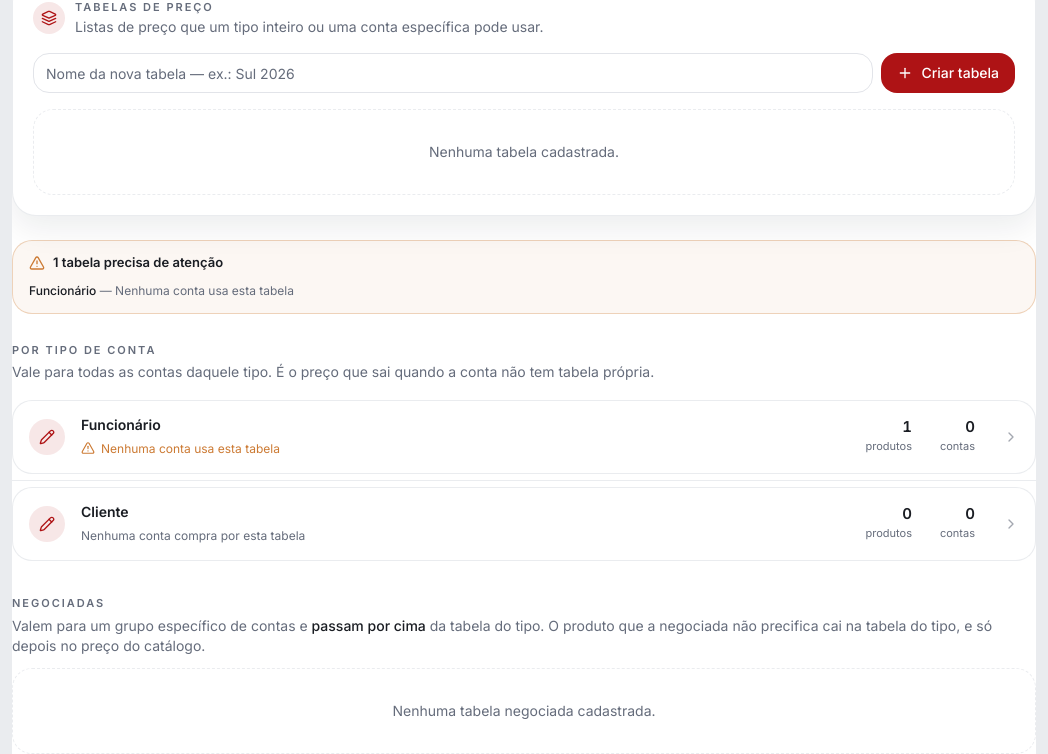
Test: entrada pela lista de tabelas › abrir uma tabela mostra os produtos dela
The width and height of the screenshot is (1048, 754).
(page scrolled)
Step 1. Click the button "Funcionário" → (47, 437), box [12, 400, 1036, 474]
(page scrolled)
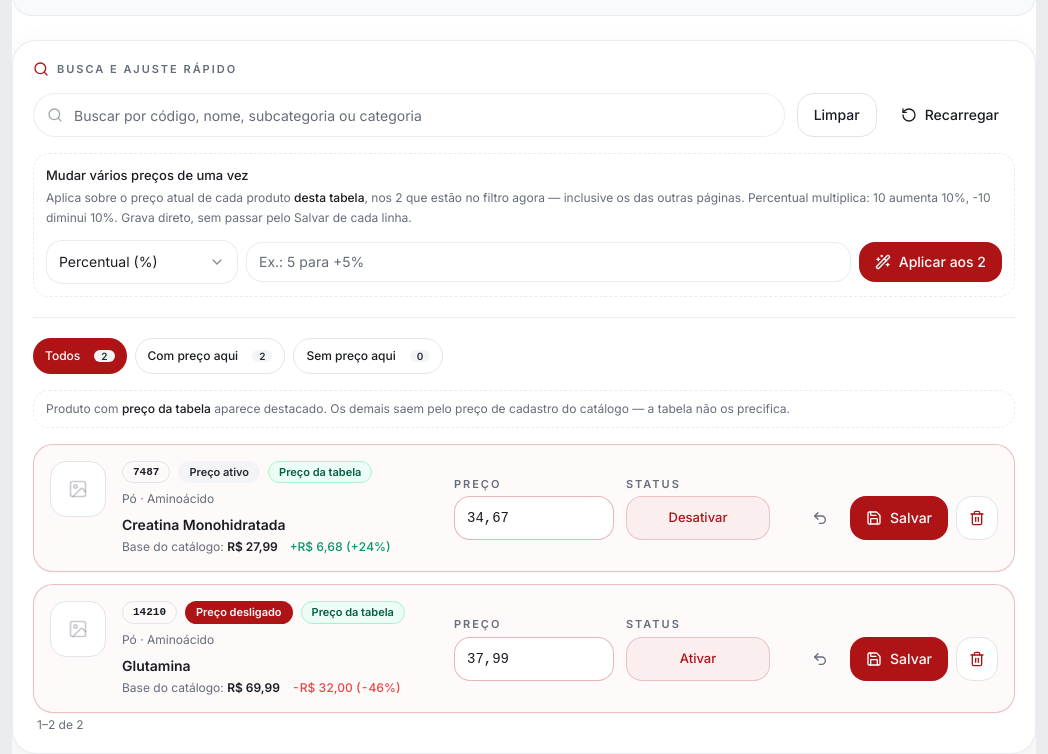
Check: the text "Creatina Monohidratada" is shown, box [122, 516, 286, 533]
